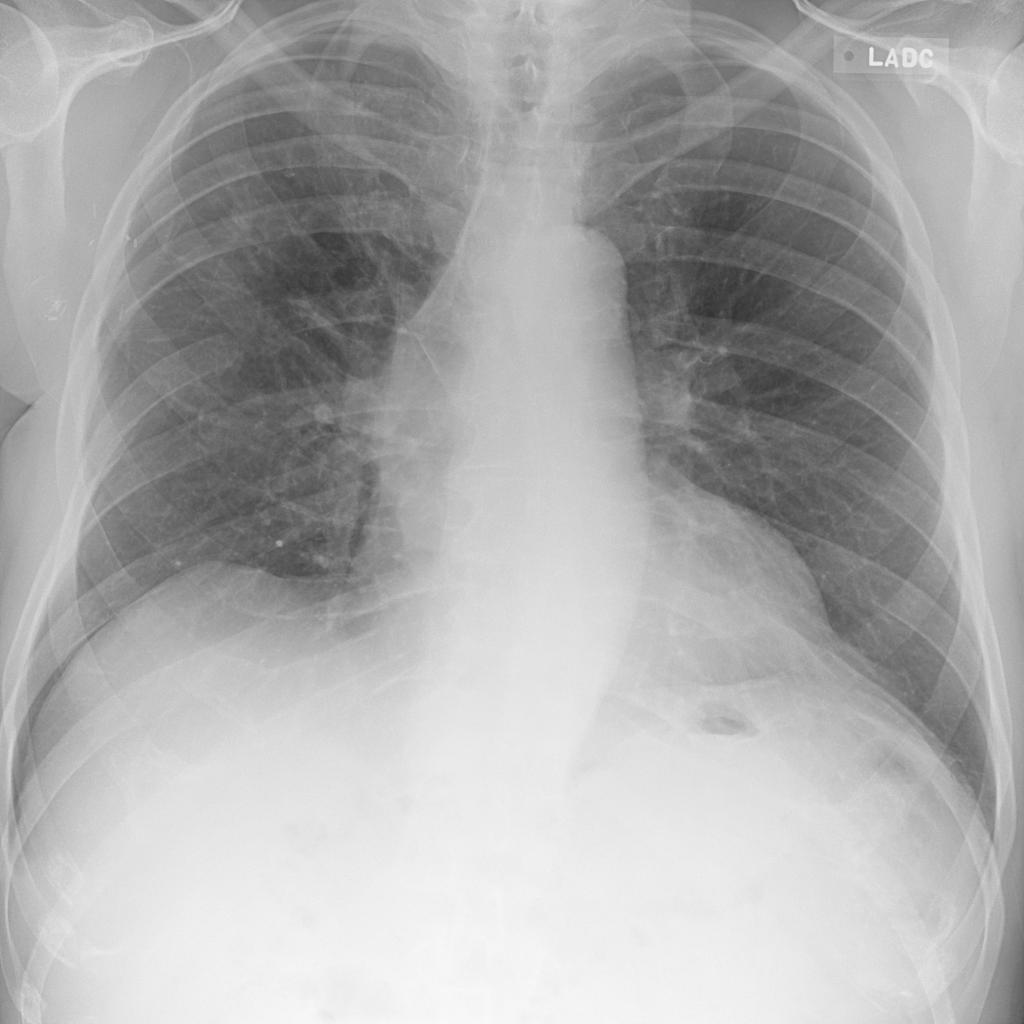Nodule: (101, 103, 140, 140), (104, 70, 131, 95)
